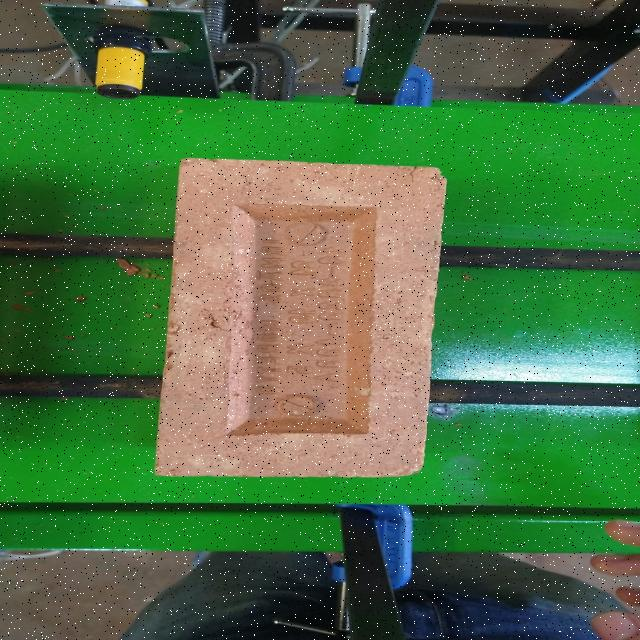bricks: (151, 157, 445, 476)
